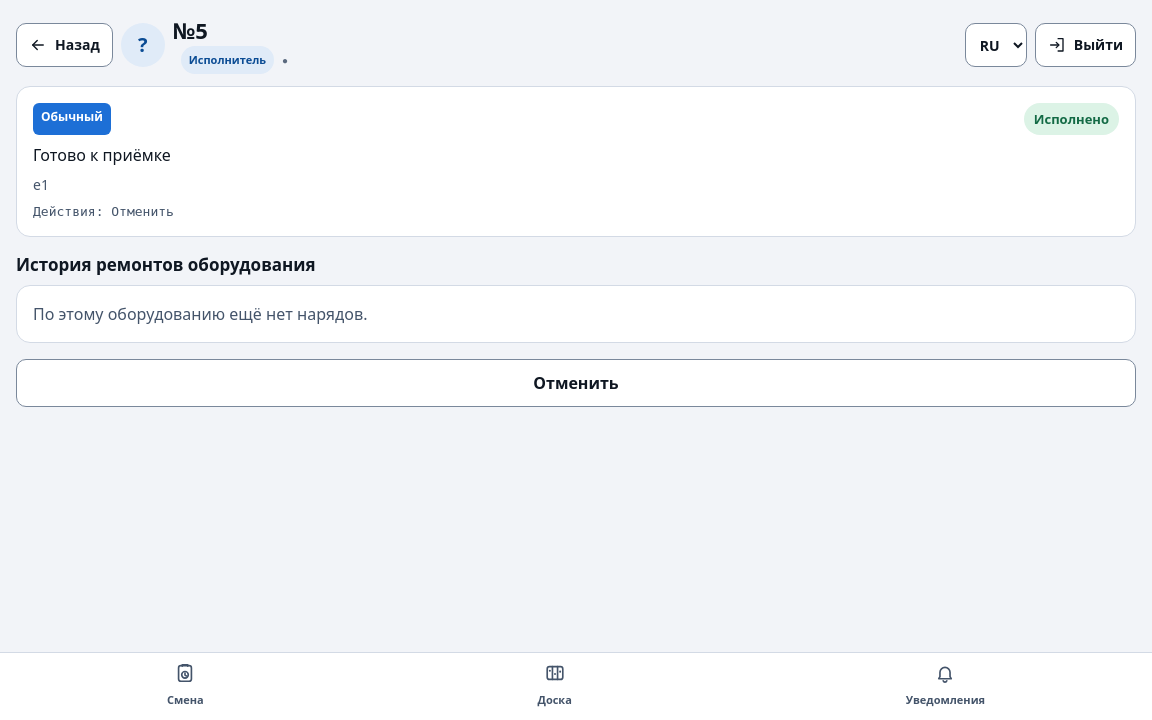
Test: MasterOrder › shows mutation error
Expected: the text "Готово к приёмке" is shown, [33,144,171,166]
What coordinates should you click on to do the following:
click the button "Отменить"
I would click on:
 (576, 383)
Its box is [16,359,1136,407].
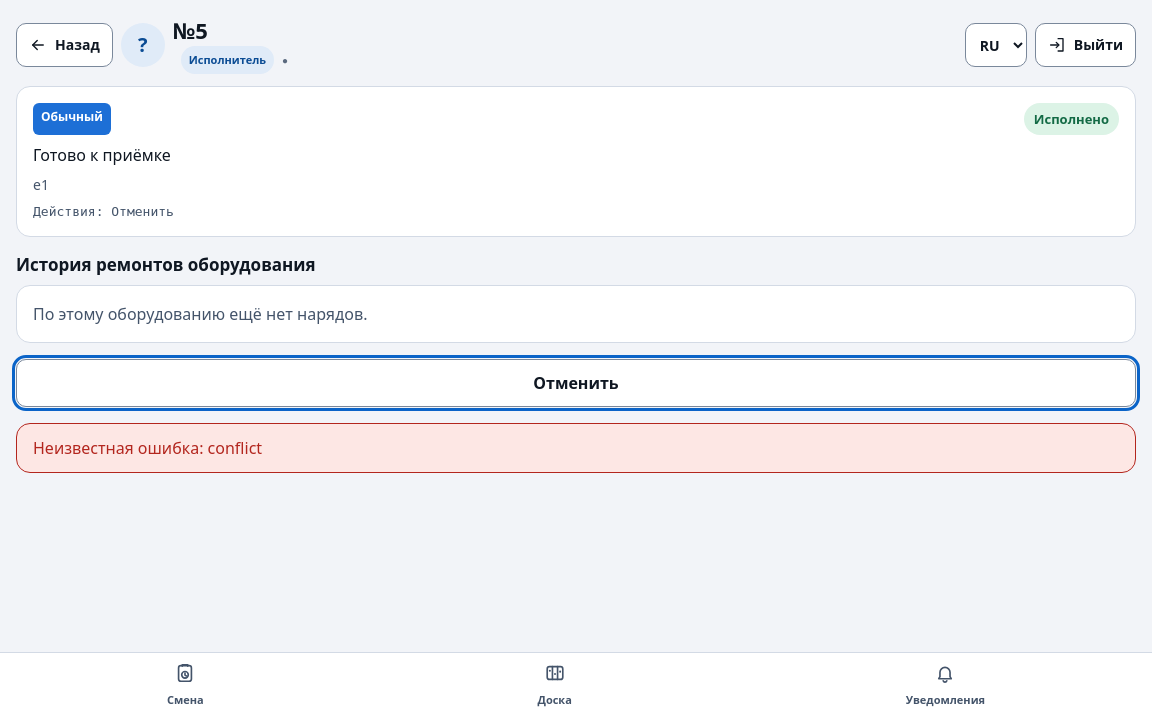
Now the message "Неизвестная ошибка: conflict" is shown, box [16,423,1136,473]
